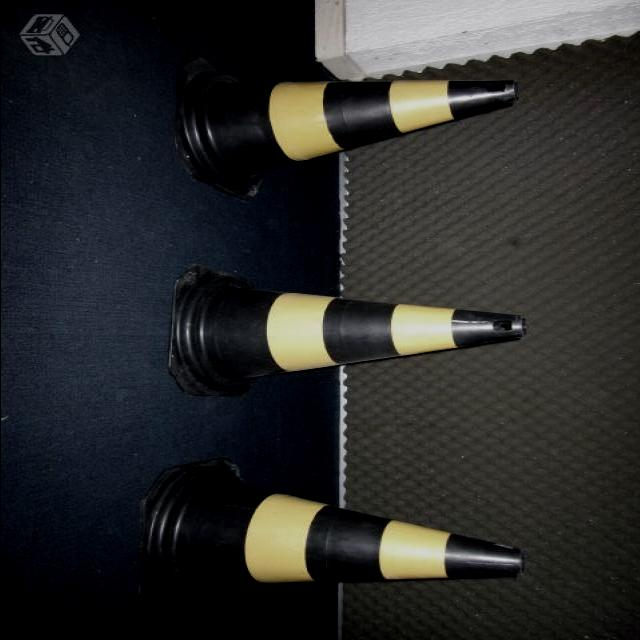cone: (114, 472, 556, 614), (154, 41, 543, 200), (160, 258, 559, 413)
